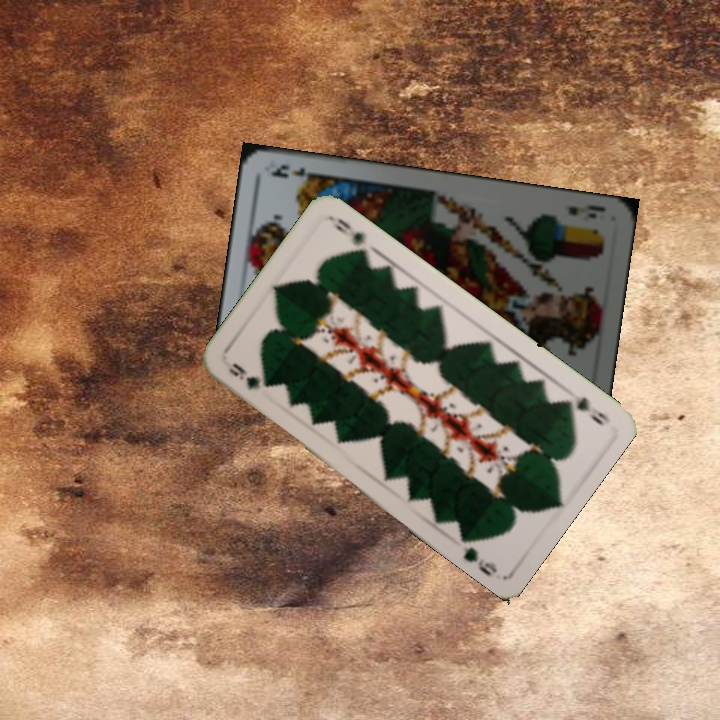EK: (563, 200, 607, 222)
G9: (557, 392, 613, 429), (224, 360, 263, 393)
